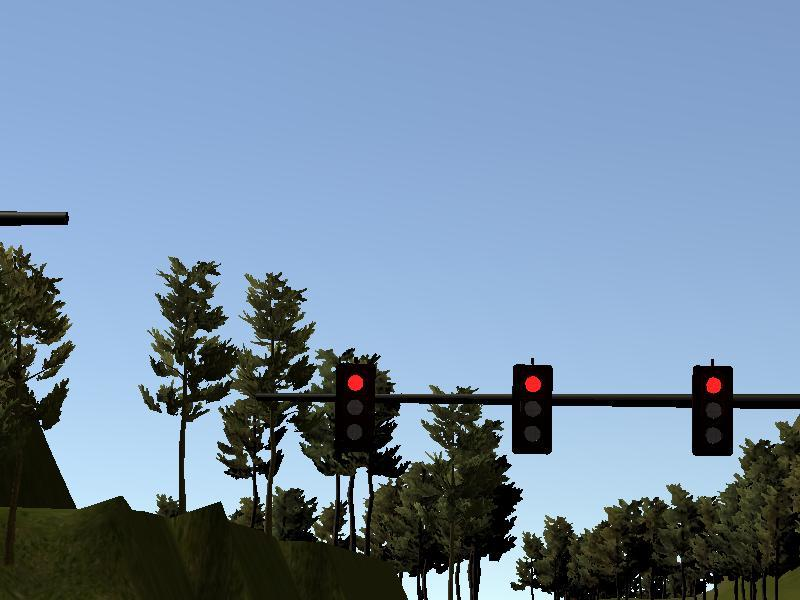Red: (514, 365, 552, 453), (695, 368, 733, 455), (338, 364, 373, 447)
